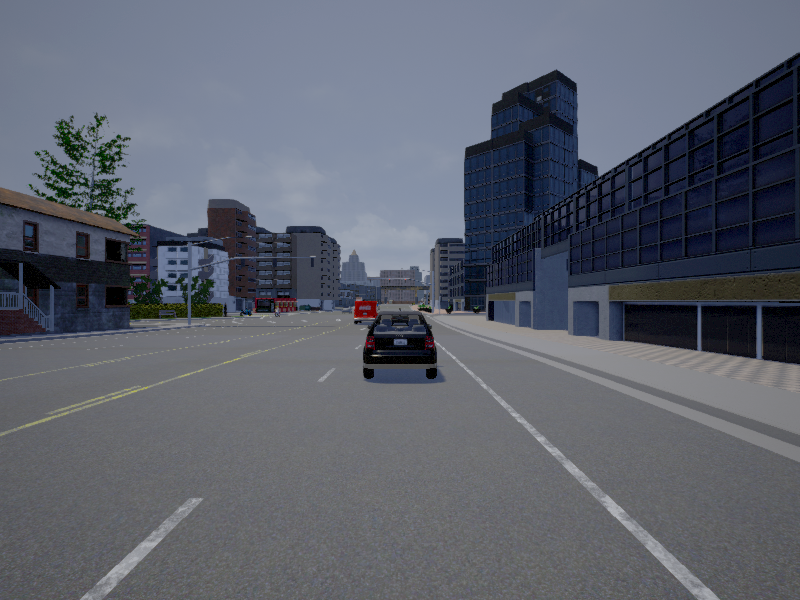Benign: (363, 314, 438, 378), (353, 301, 379, 324)
